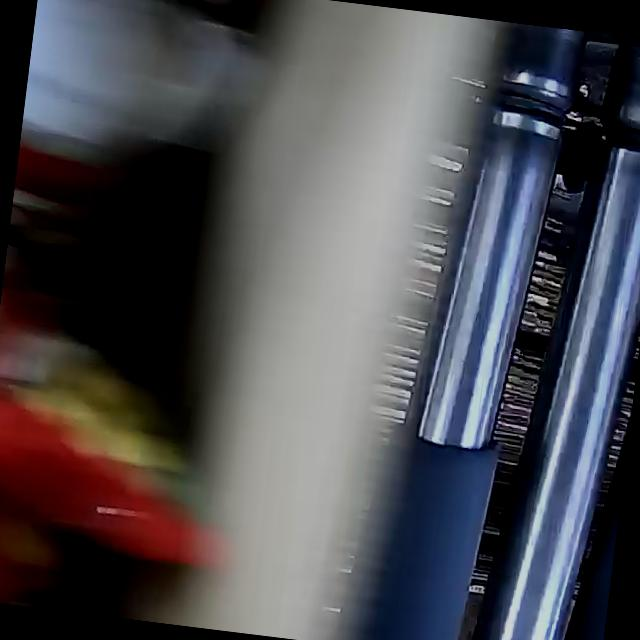masala: (0, 0, 217, 620)
